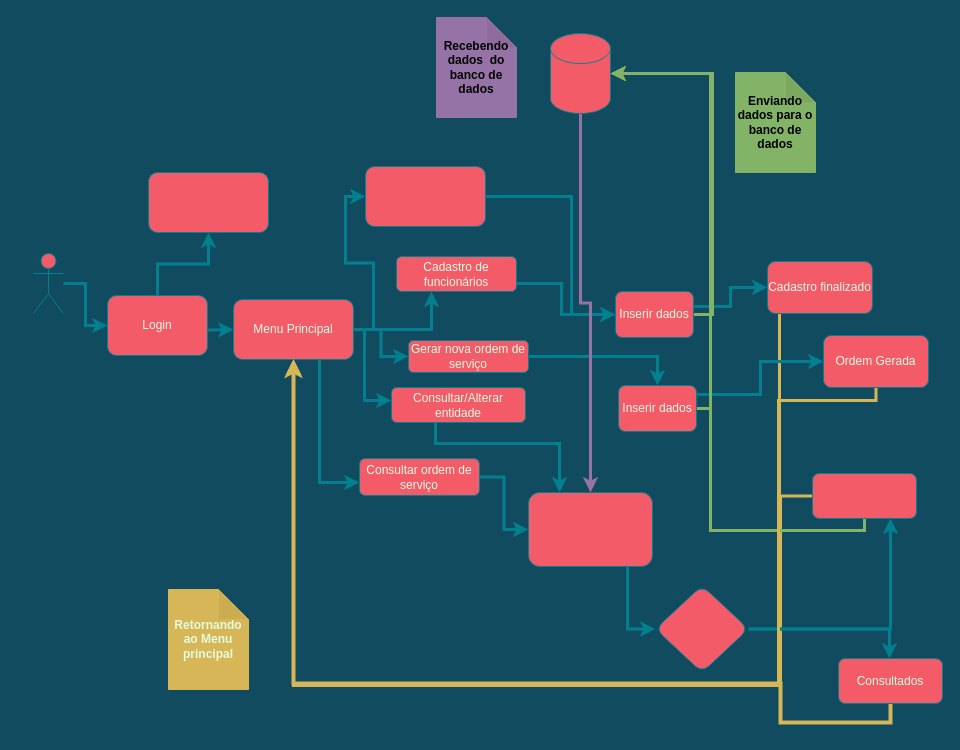
This 960x750 diagram has some shape labels left out. Each missing label, with the centre of its shape:
Banco de dados: the point at 580,73
Cadastro de clientes: the point at 425,196
Consulta ou Alteração?: the point at 701,628
Dados Alterados: the point at 864,495
Dados recebidos e prontos para alteração/Consulta: the point at 590,529
Esqueceu a senha: the point at 208,202
Funcionário: the point at 48,283
